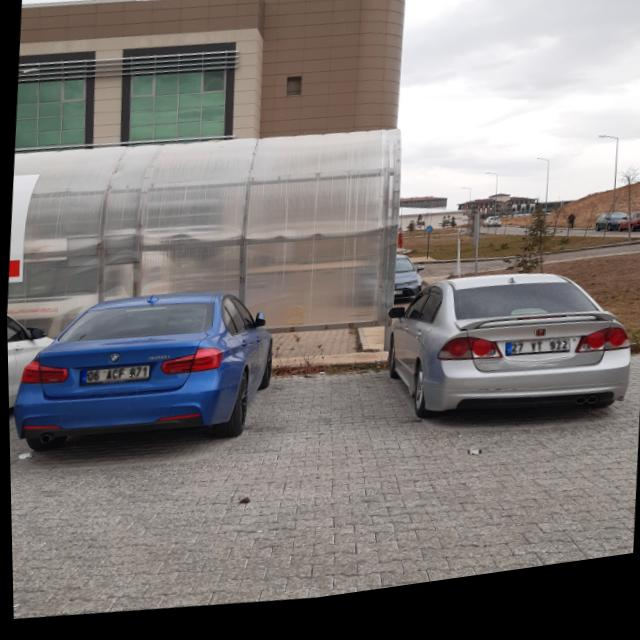license_plate: (77, 365, 146, 390), (502, 350, 567, 373)
